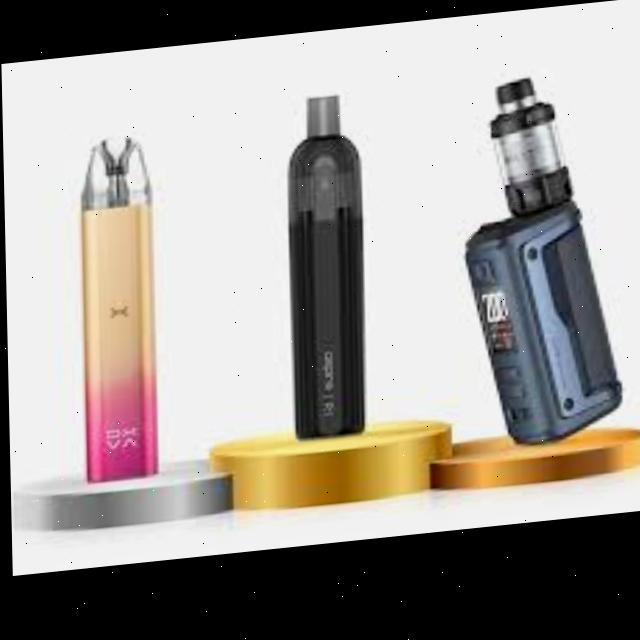vape: (460, 84, 621, 465), (287, 100, 365, 448), (80, 135, 156, 483)
